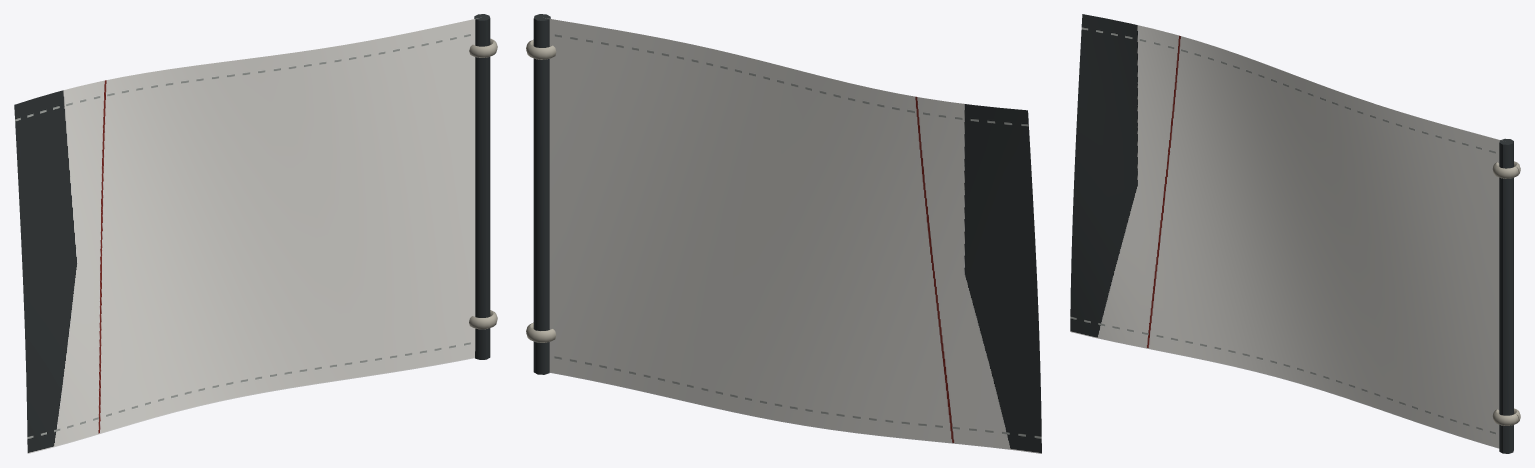
File: Pennant_04_N_白鉛・細墨.glb
3 renders of one model, left to right at view 1: azimuth 30°, elevation 25°; view 2: azimuth 150°, elevation 25°; view 3: azimuth 330°, elevation 25°, orthographic. The views are drawn at different scales.
Parts seen in each view (by area): view 1: Pennant_04_N; view 2: Pennant_04_N; view 3: Pennant_04_N.
Boxes of the visible parts, left/top/right/bottom form: Pennant_04_N: left=14, top=14, right=497, bottom=453; Pennant_04_N: left=526, top=14, right=1041, bottom=453; Pennant_04_N: left=1070, top=14, right=1520, bottom=453.
Size of the model in its own units: 0.2667 by 0.1936 by 0.0206.
Materials: 3 (3 with a texture image).
